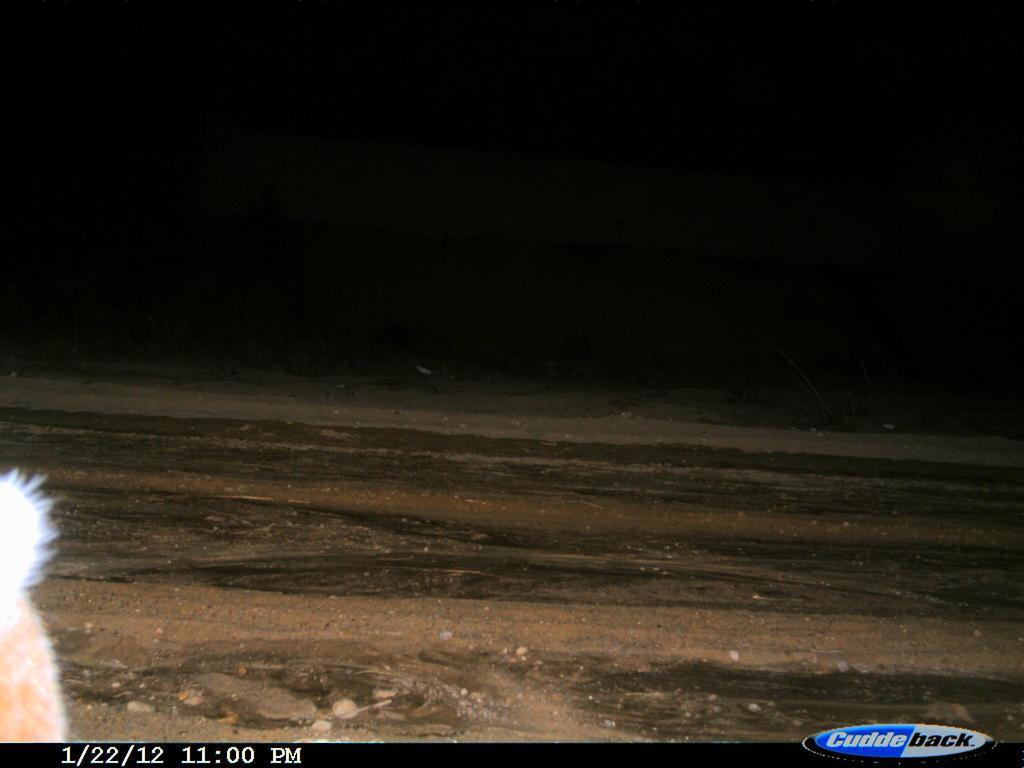bobcat: (3, 455, 85, 743)
